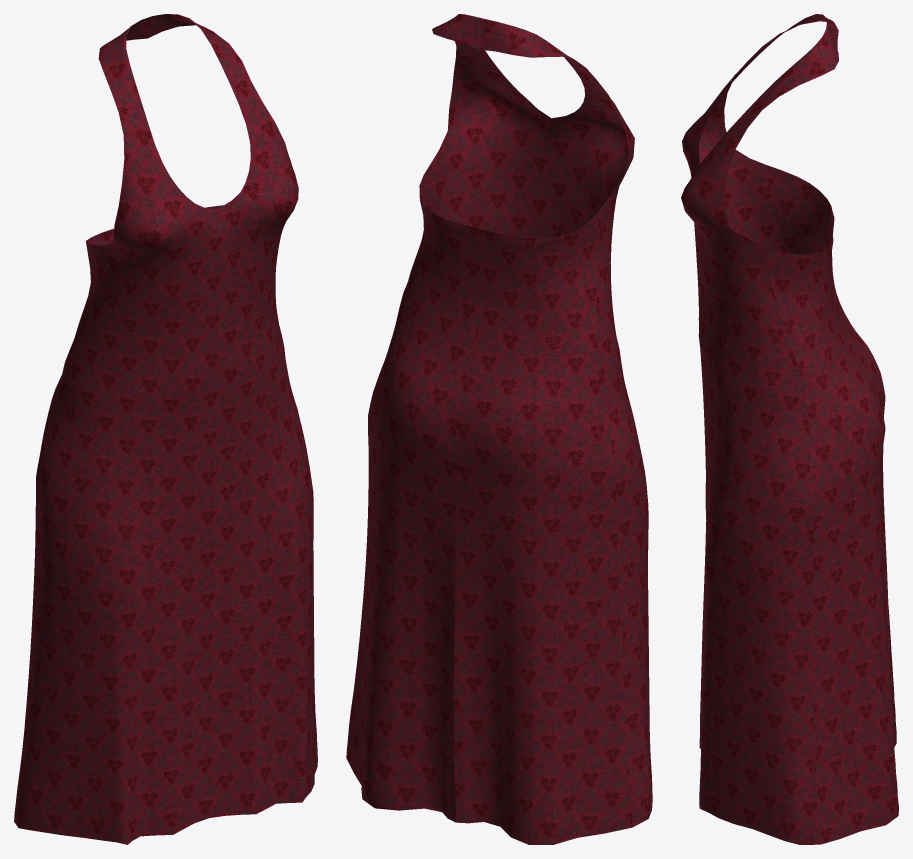
The model's file is toigo-halter-dress-midi.glb.
3 views of the same model, side by side, from view 1: azimuth 30°, elevation 25°; view 2: azimuth 150°, elevation 25°; view 3: azimuth 270°, elevation 25° (orthographic). The views are drawn at different scales.
Visible parts, largest first — view 1: halter dress midi; view 2: halter dress midi; view 3: halter dress midi.
Part boxes in pixels (bbox=[...]): halter dress midi: bbox=[14, 14, 317, 844]; halter dress midi: bbox=[346, 14, 652, 844]; halter dress midi: bbox=[681, 14, 898, 844].
Size of the model in its own units: 43.5 by 109 by 28.32.
Materials: 1 (1 with a texture image).
